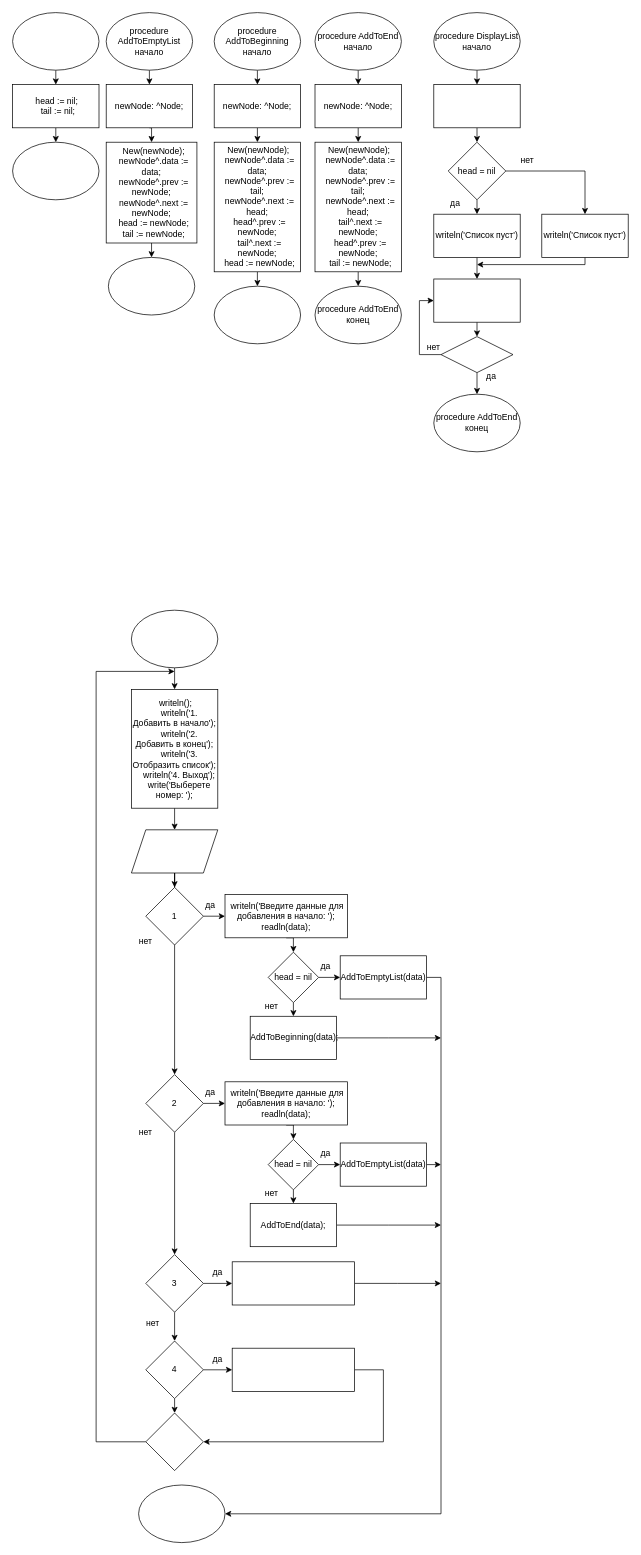
Image size: 641x1555. Some labels were removed from this diagram. The shapes that lost their labels are listed below. From the top down, each one's box as (x1, y1, x2, y2) in pixels, then its label:
(12, 12, 99, 70): procedure InitList начало
(433, 84, 520, 128): current: ^Node;
(12, 141, 99, 200): procedure InitList конец
(108, 257, 195, 315): procedure AddToEmptyList конец
(433, 278, 520, 322): writeln(current^.data); current := current^.next;
(213, 285, 301, 344): procedure AddToBeginning конец
(440, 336, 513, 373): current = head;
(131, 609, 218, 668): начало
(131, 829, 218, 873): read(choice);
(231, 1261, 355, 1305): DisplayList;
(231, 1347, 355, 1391): writeln('Выход...');
(145, 1412, 203, 1471): choise = 4
(138, 1484, 225, 1543): конец
